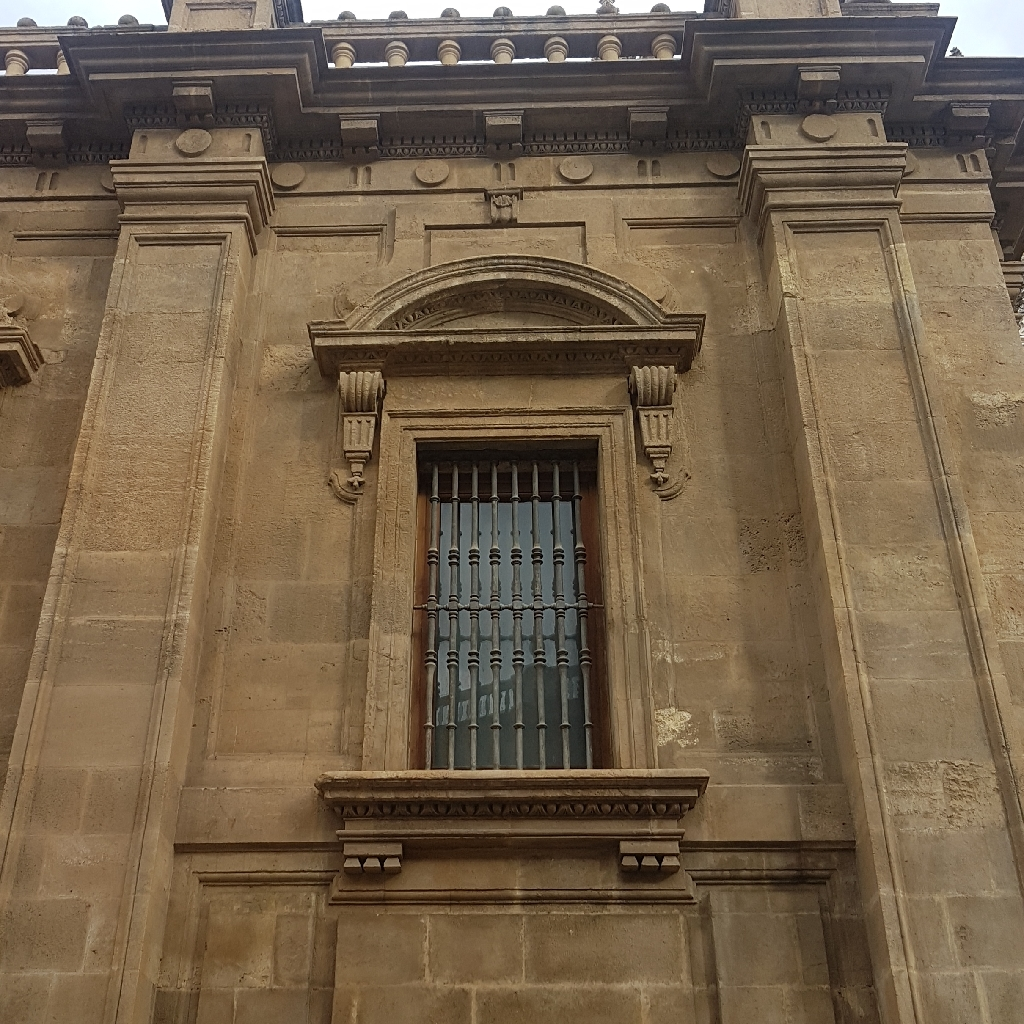fronton-curvo: (293, 254, 722, 352)
vano-adintelado: (359, 397, 651, 779)
